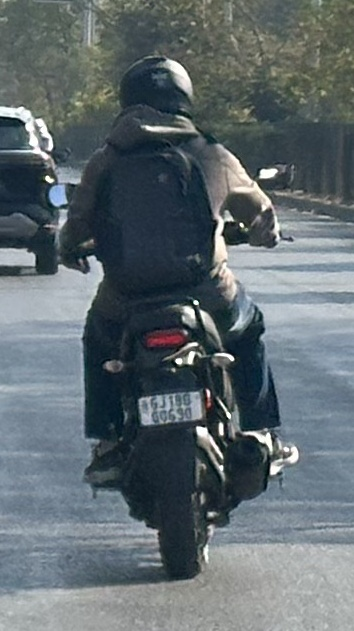BikeWithRider: (31, 45, 315, 582)
Helmet: (113, 48, 196, 127)
